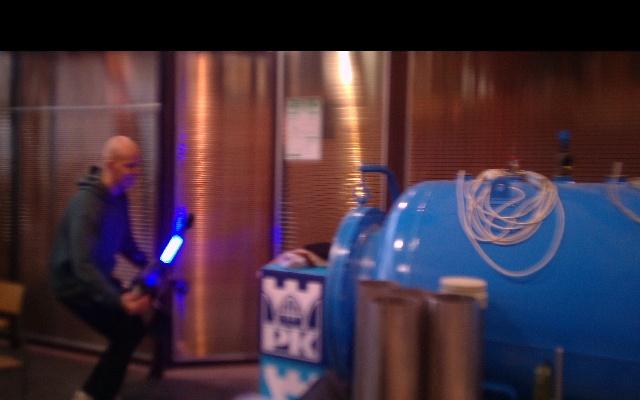blue: (159, 234, 183, 264)
